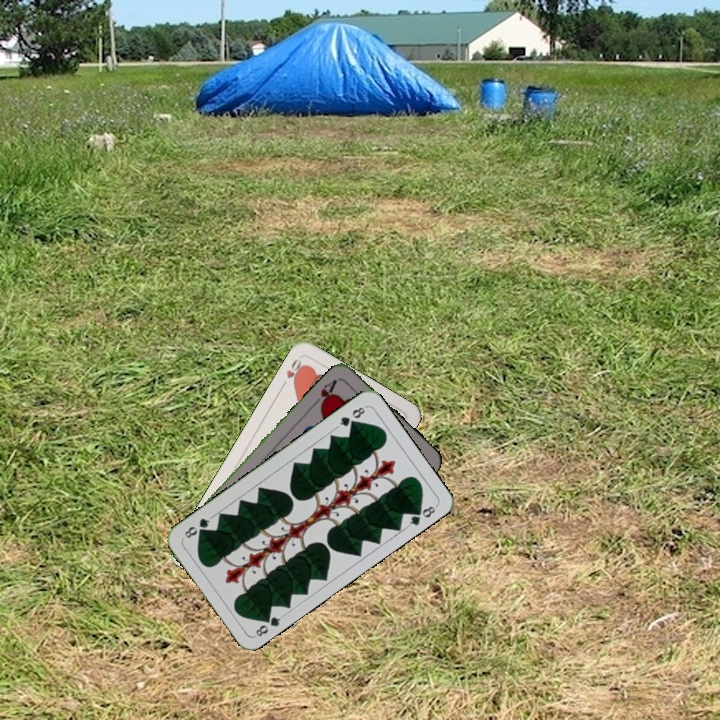G8: (251, 610, 286, 639), (333, 402, 369, 430)
HA: (309, 375, 341, 411)
HO: (278, 353, 307, 390)
